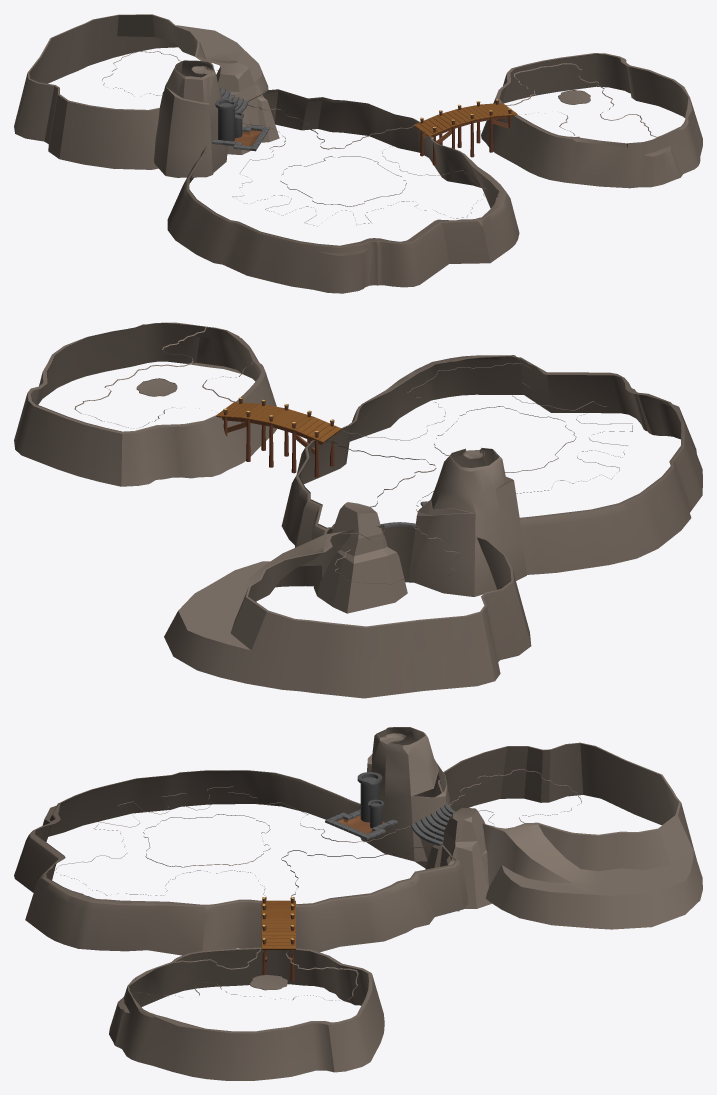
File: Terrein Base.003.fbx
The picture shows the model from 3 angles, top to bottom: view 1: azimuth 30°, elevation 25°; view 2: azimuth 150°, elevation 25°; view 3: azimuth 270°, elevation 25°; orthographic projection. The views are drawn at different scales.
Visible parts, largest first — view 1: Cube, Plane, Plane.001, Plane.002, Cube.049, Cube.024, Cylinder.001, Circle; view 2: Plane.001, Cube, Plane, Plane.002, Cube.049, Cube.024, Cylinder.001; view 3: Cube, Plane.001, Plane, Plane.002, Cube.049, Cube.024, Cube.007, Circle.
Boxes of the visible parts, x1,y1,x2,y2 form: Cube: [167, 89, 519, 293]; Plane: [481, 53, 702, 188]; Plane.001: [14, 14, 268, 169]; Plane.002: [154, 60, 227, 177]; Cube.049: [216, 62, 279, 154]; Cube.024: [414, 103, 517, 136]; Cylinder.001: [420, 99, 511, 165]; Circle: [215, 98, 237, 141]; Plane.001: [164, 526, 531, 698]; Cube: [281, 355, 702, 574]; Plane: [14, 322, 276, 486]; Plane.002: [409, 447, 526, 596]; Cube.049: [313, 502, 407, 613]; Cube.024: [216, 402, 341, 443]; Cylinder.001: [223, 397, 334, 477]; Cube: [14, 770, 467, 955]; Plane.001: [434, 742, 702, 929]; Plane: [109, 947, 384, 1080]; Plane.002: [360, 727, 451, 861]; Cube.049: [425, 807, 491, 911]; Cube.024: [261, 900, 295, 949]; Cube.007: [410, 804, 455, 845]; Circle: [357, 772, 382, 822].
Size of the model in its own units: 3038 by 601 by 3116.
